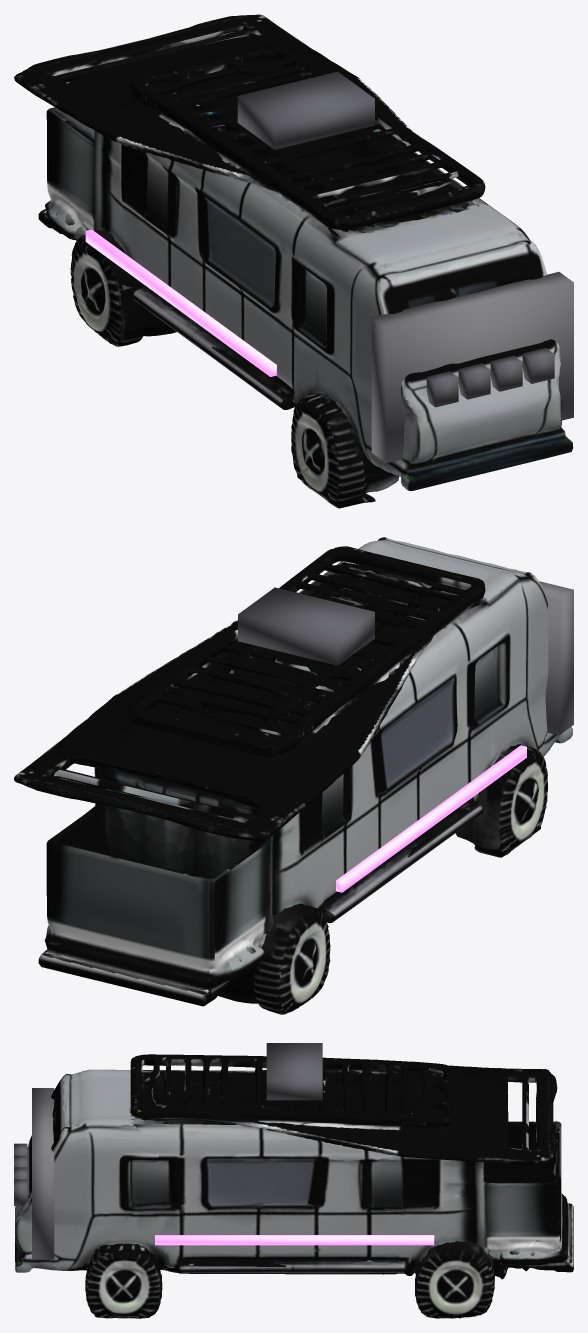
The model's file is choir.glb.
The picture shows the model from 3 angles, top to bottom: view 1: azimuth 30°, elevation 25°; view 2: azimuth 150°, elevation 25°; view 3: azimuth 270°, elevation 25°; orthographic projection. The views are drawn at different scales.
Parts seen in each view (by area): view 1: choir, choir_SpeakerWall, choir_Amp, choir_NeonL, choir_Speaker1, choir_Speaker2, choir_Speaker3, choir_Speaker0; view 2: choir, choir_Amp, choir_SpeakerWall, choir_NeonL; view 3: choir, choir_SpeakerWall, choir_Amp, choir_NeonR, choir_Speaker3.
Boxes of the visible parts, box(x1,y1,x2,y2) form: choir: box(14, 14, 573, 508); choir_SpeakerWall: box(371, 272, 573, 463); choir_Amp: box(237, 71, 374, 149); choir_NeonL: box(85, 229, 276, 376); choir_Speaker1: box(458, 363, 490, 399); choir_Speaker2: box(490, 355, 522, 391); choir_Speaker3: box(522, 348, 554, 383); choir_Speaker0: box(426, 371, 458, 407); choir: box(14, 537, 572, 1014); choir_Amp: box(238, 587, 374, 665); choir_SpeakerWall: box(539, 581, 573, 735); choir_NeonL: box(336, 745, 526, 892); choir: box(15, 1054, 573, 1318); choir_SpeakerWall: box(32, 1088, 54, 1259); choir_Amp: box(266, 1043, 322, 1100); choir_NeonR: box(155, 1235, 434, 1245); choir_Speaker3: box(14, 1179, 27, 1205).
Size of the model in its own units: 2 by 2.22 by 5.01.
4 materials, 1 textured.
